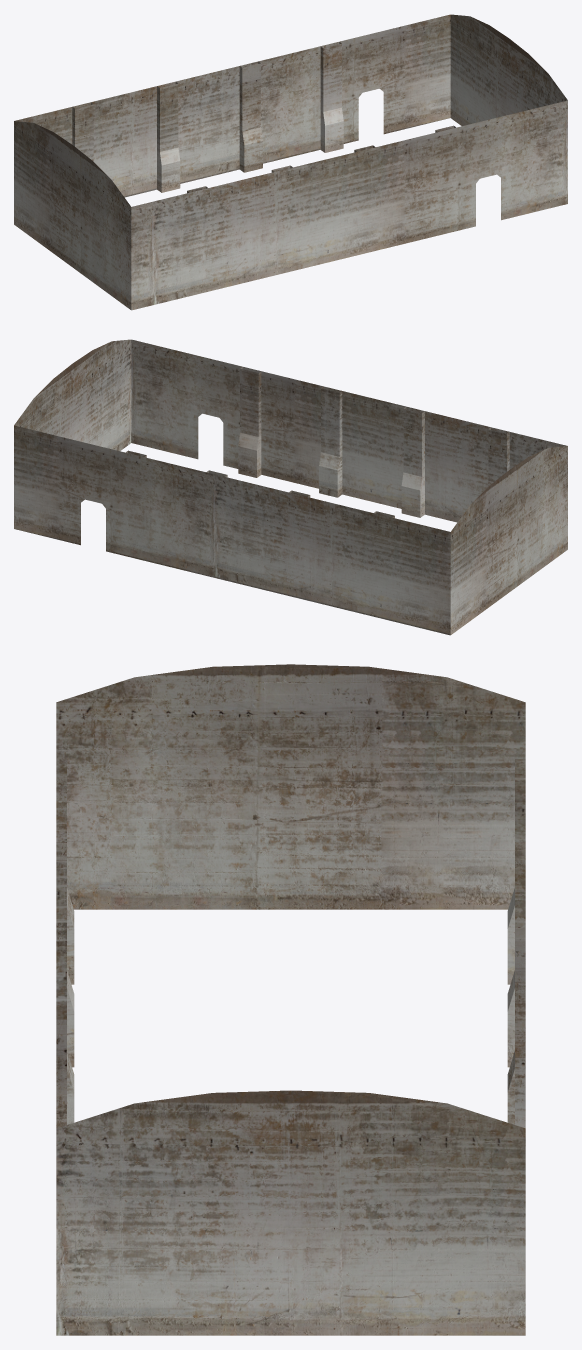
File: BunkerWalls.FBX
3 renders of one model, top to bottom at view 1: azimuth 30°, elevation 25°; view 2: azimuth 150°, elevation 25°; view 3: azimuth 270°, elevation 25°, orthographic. The views are drawn at different scales.
Visible parts, largest first — view 1: BunkerWalls; view 2: BunkerWalls; view 3: BunkerWalls.
Part boxes in pixels (x1=…): BunkerWalls: x1=14, y1=14, x2=567, y2=310; BunkerWalls: x1=14, y1=339, x2=567, y2=635; BunkerWalls: x1=56, y1=664, x2=525, y2=1335.
Size of the model in its own units: 2175 by 583 by 1013.
Materials: 1 (1 with a texture image).
